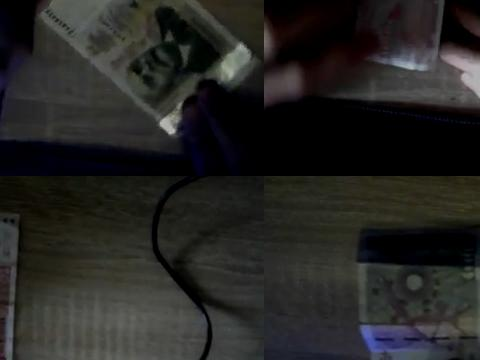10leva: (41, 0, 264, 136), (355, 229, 480, 360)
5leva: (353, 0, 448, 71)
